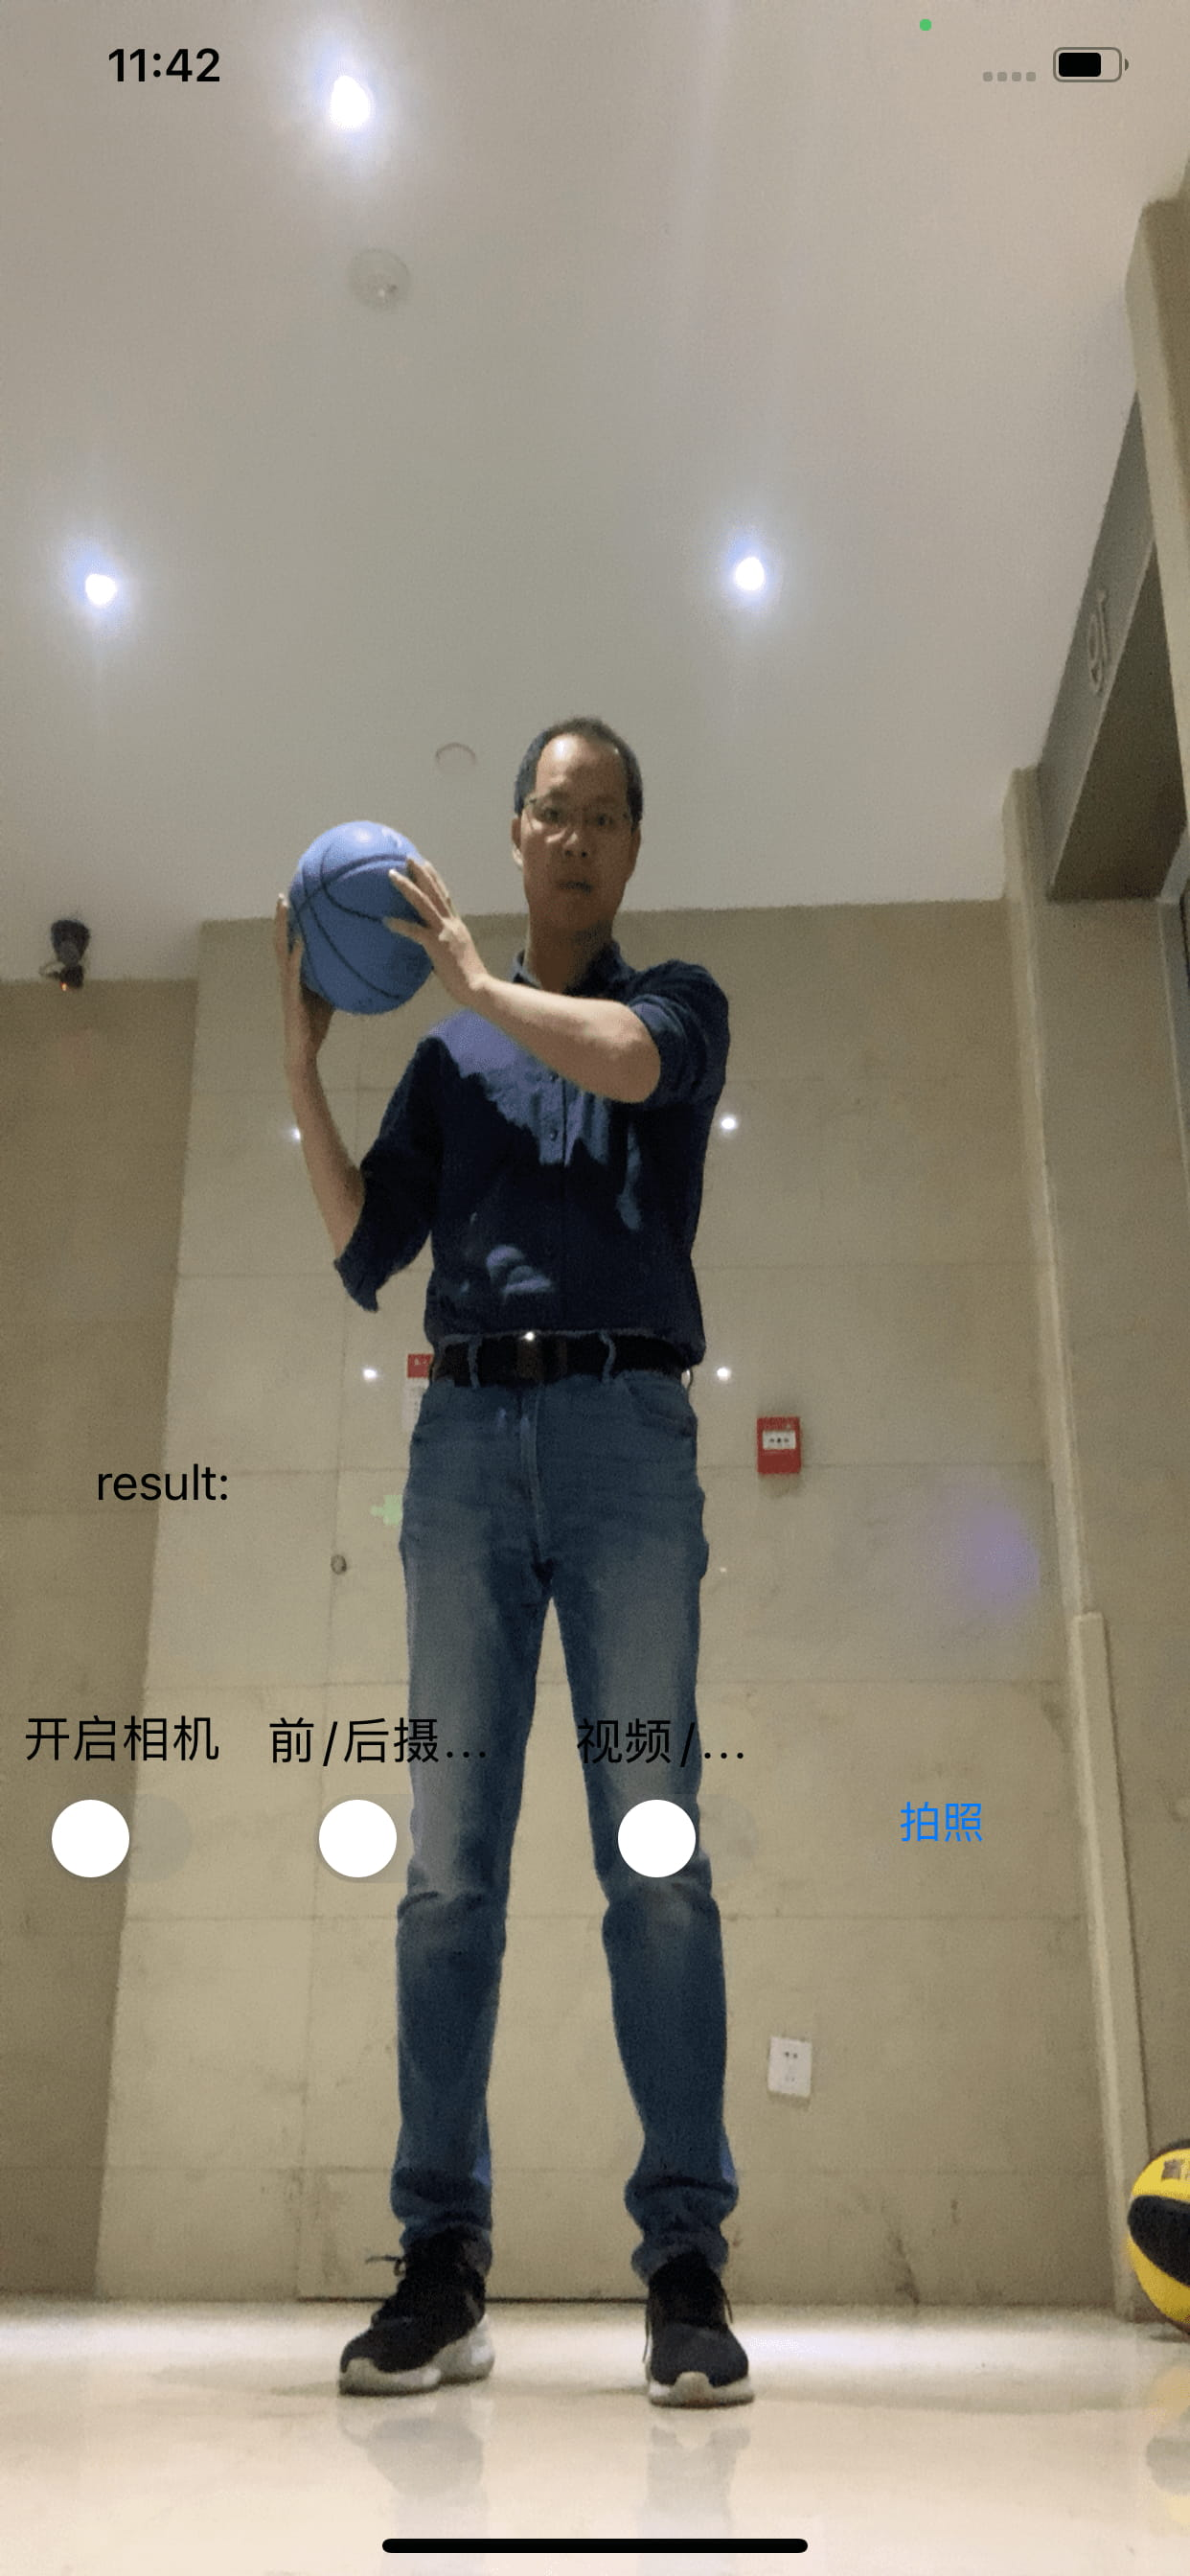ball: (286, 823, 447, 1019)
